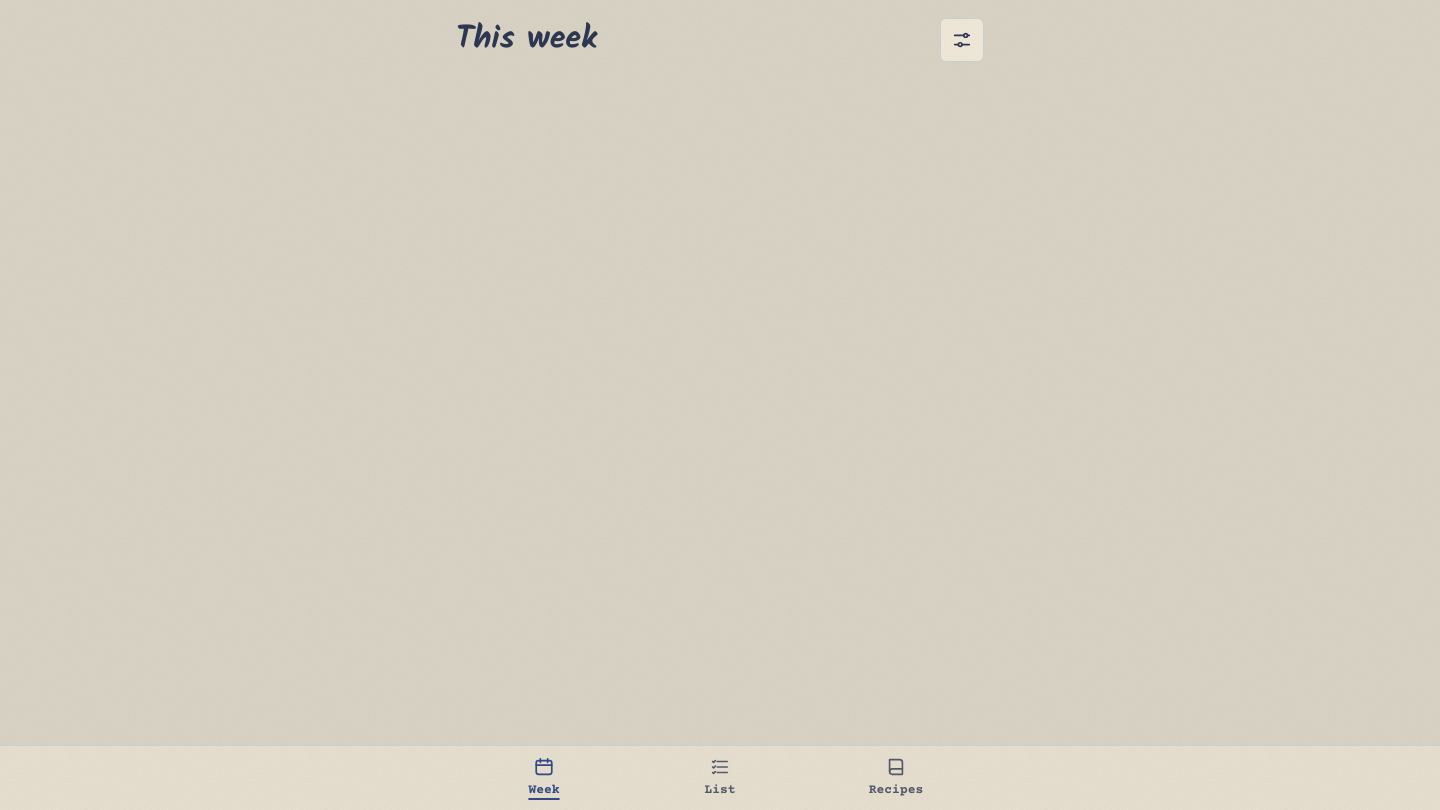
Test: App shell › switches tabs and remembers the tab in the URL
What coordinates should you click on to do the following:
click the button "List"
I would click on:
 (720, 778)
Its box is [632,746,808,809].
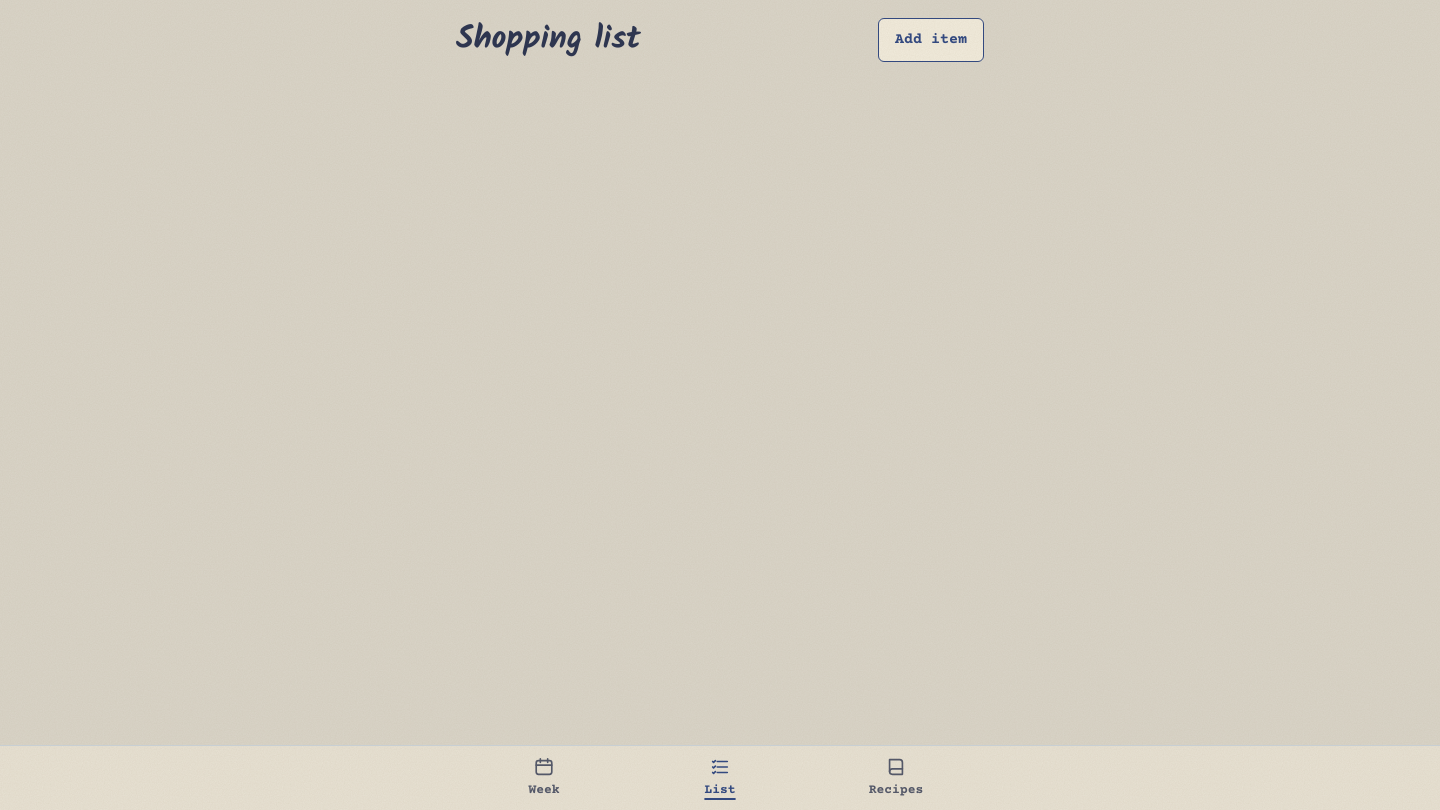
Check: the heading reads "Shopping list", box [456,14,641,65]
